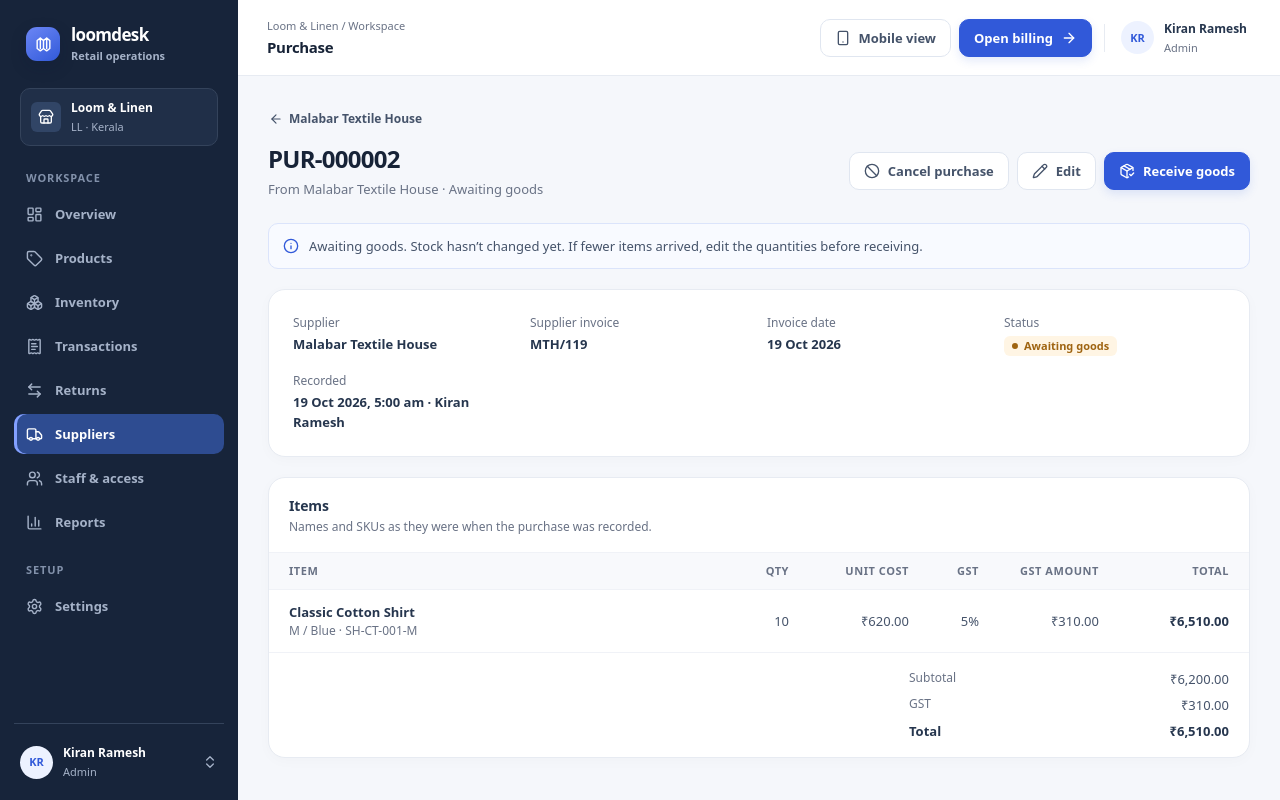
Scenario: purchase detail and receiving › treats an already-received purchase as done, not as an error
Click the button "Receive goods" at (1177, 171), box [1104,152,1250,190]
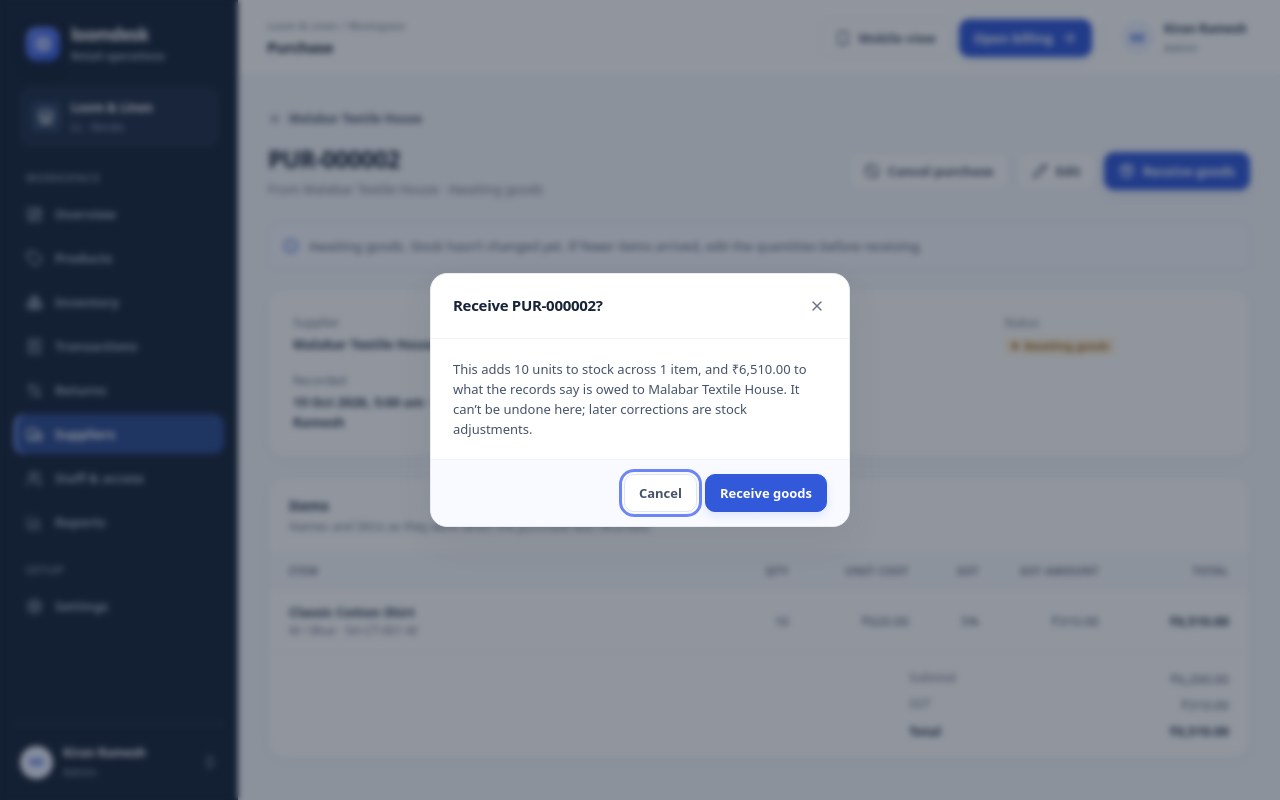
Click the button "Receive goods" at (766, 493), box [705,474,827,512]
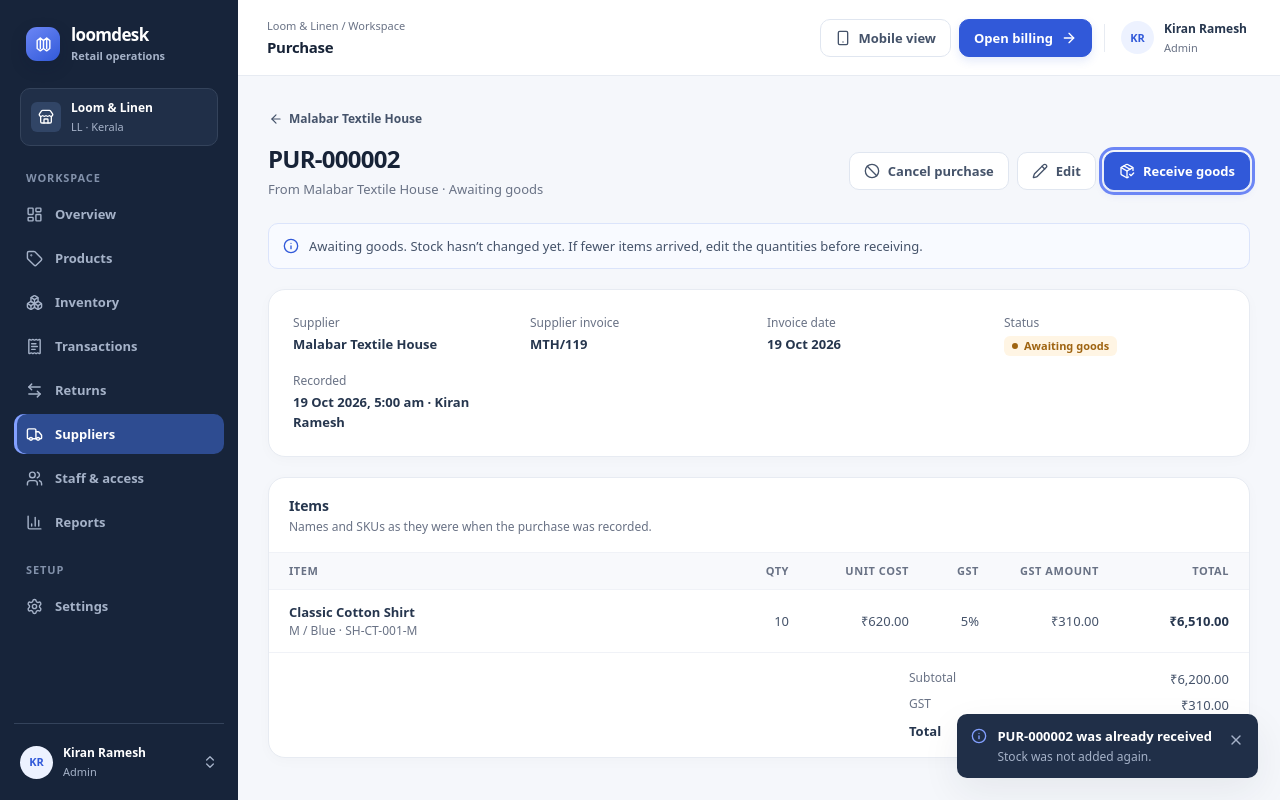
Expected: the text "PUR-000002 was already received" is shown, [998,726,1212,746]
Expected: the text "Stock was not added again." is shown, [998,748,1152,765]
